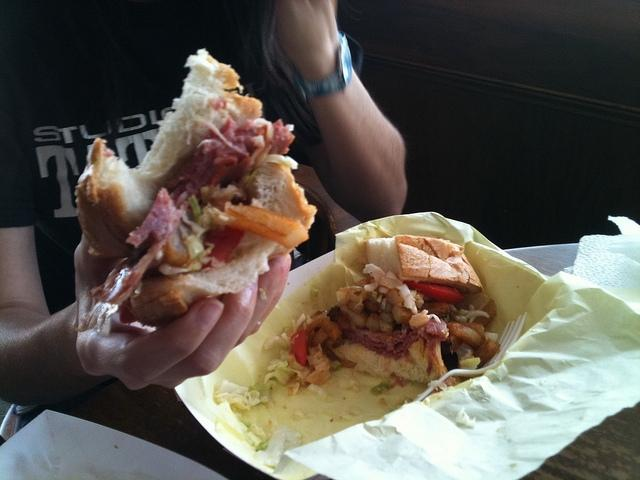tomato: (202, 229, 245, 269), (402, 281, 467, 306), (290, 330, 306, 366)
